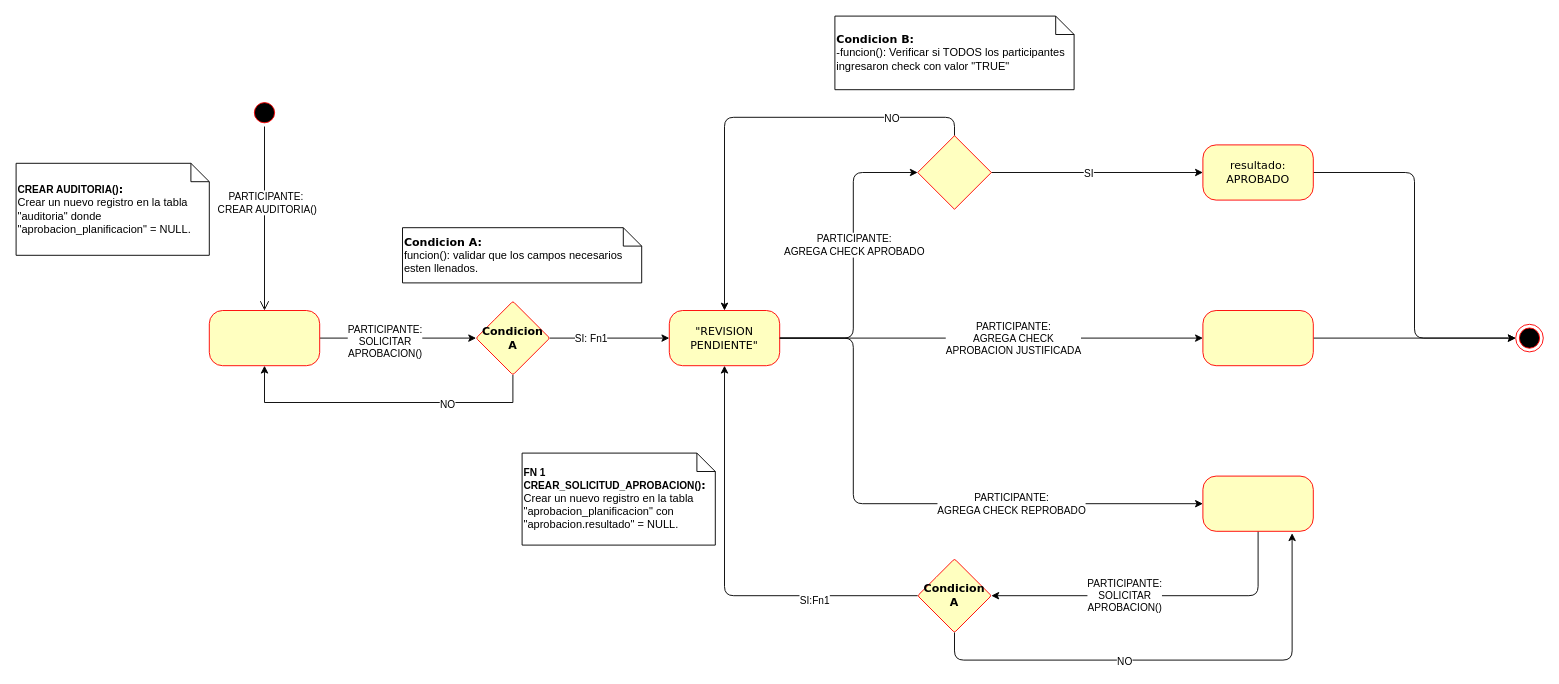
Some shapes in this 1559 by 684 pixel diagram are drawn without their labels. Each missing label, with the centre of its shape:
"EN DESARROLLO": the point at 264,338
Condicion B: the point at 954,172
resultado: APROBACION JUSTIFICADA: the point at 1257,338
resultado: REPROBADO: the point at 1257,503
